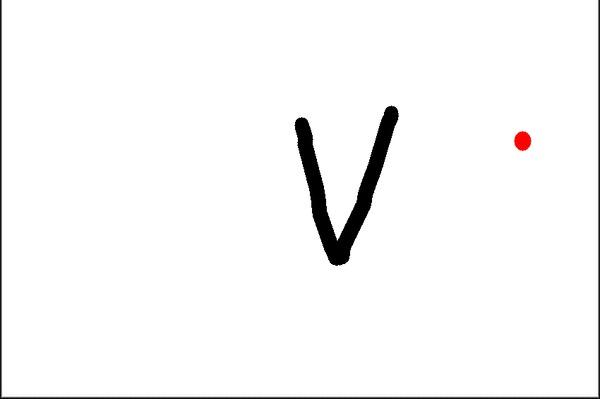V: (277, 98, 414, 274)
